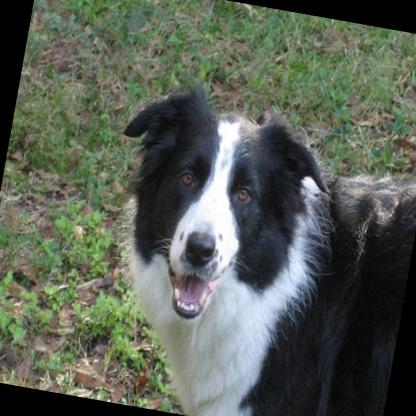Border_collie: (73, 68, 416, 416)
